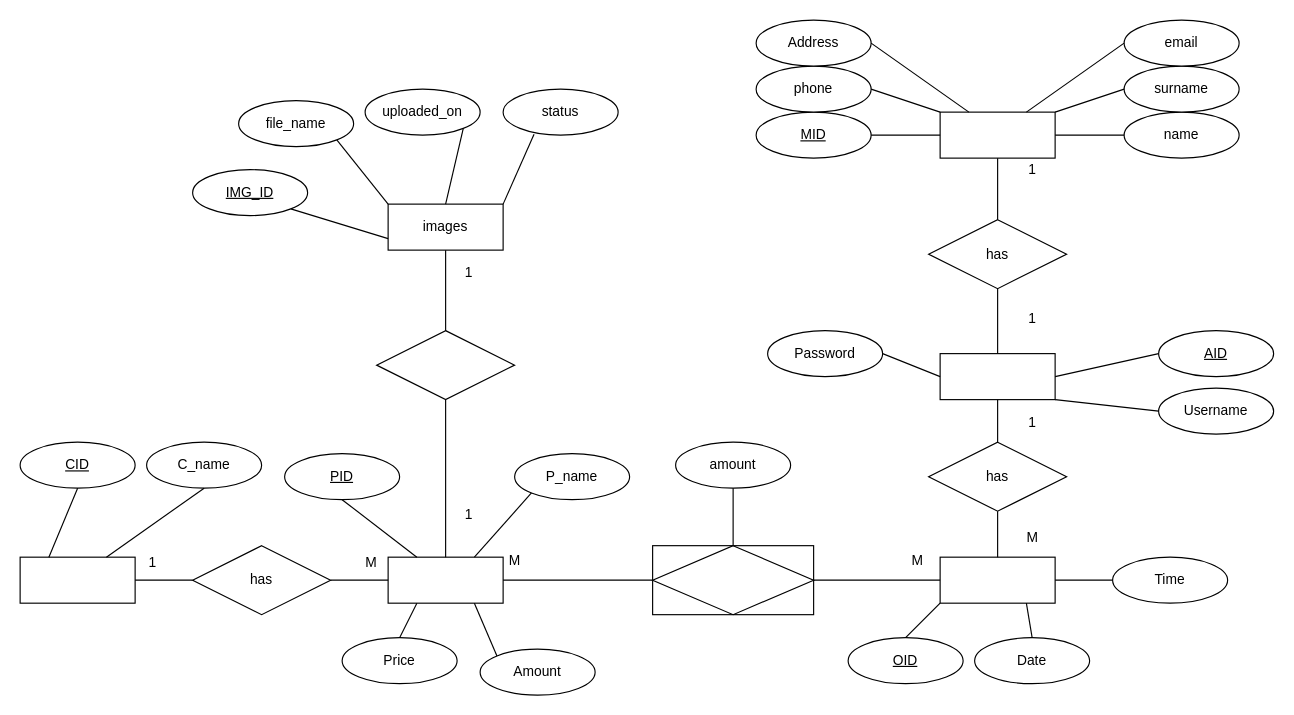
Some shapes in this 1294 by 715 pixel diagram are drawn without their labels. Here are the shapes that lost their labels. From the top down, the centre of each, then its label:
At point (997, 134): "Member_detail".
At point (445, 364): "Relationship".
At point (997, 376): "Member_Account".
At point (77, 579): "category".
At point (445, 579): "Product".
At point (732, 580): "Order_detail".
At point (997, 579): "Order".
